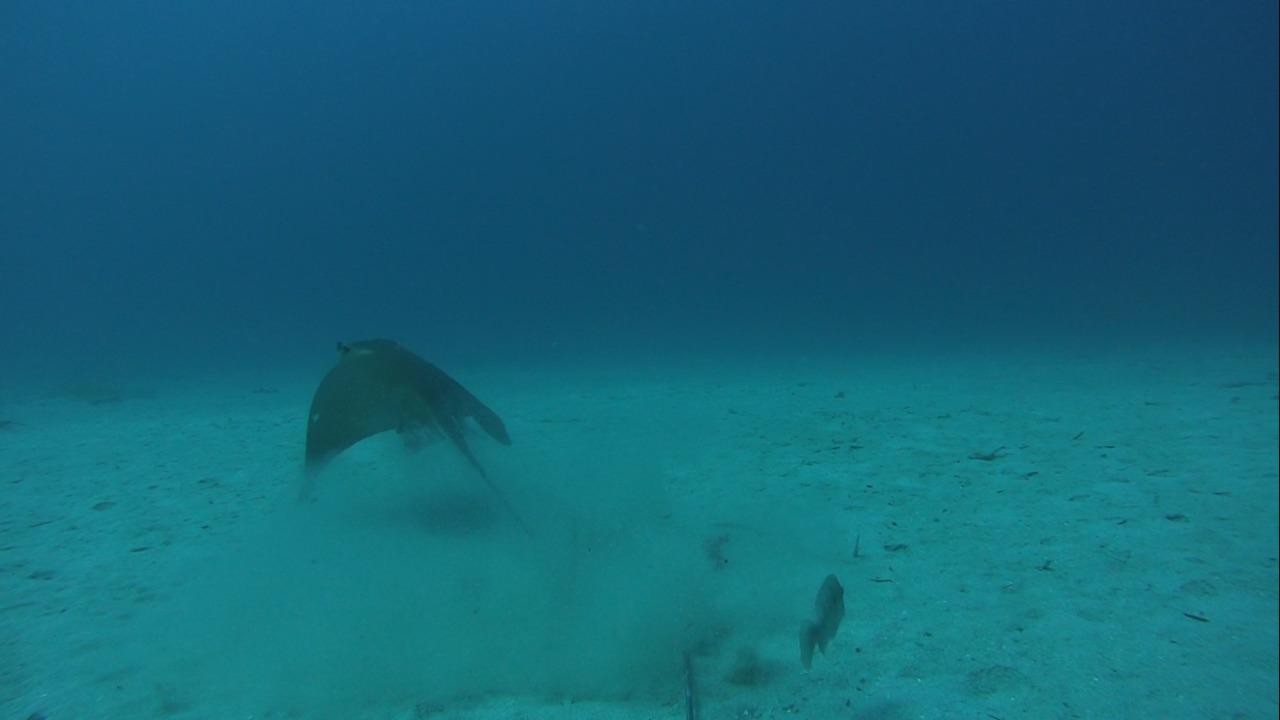myliobatis: (297, 334, 539, 555)
raor: (784, 564, 854, 660)
